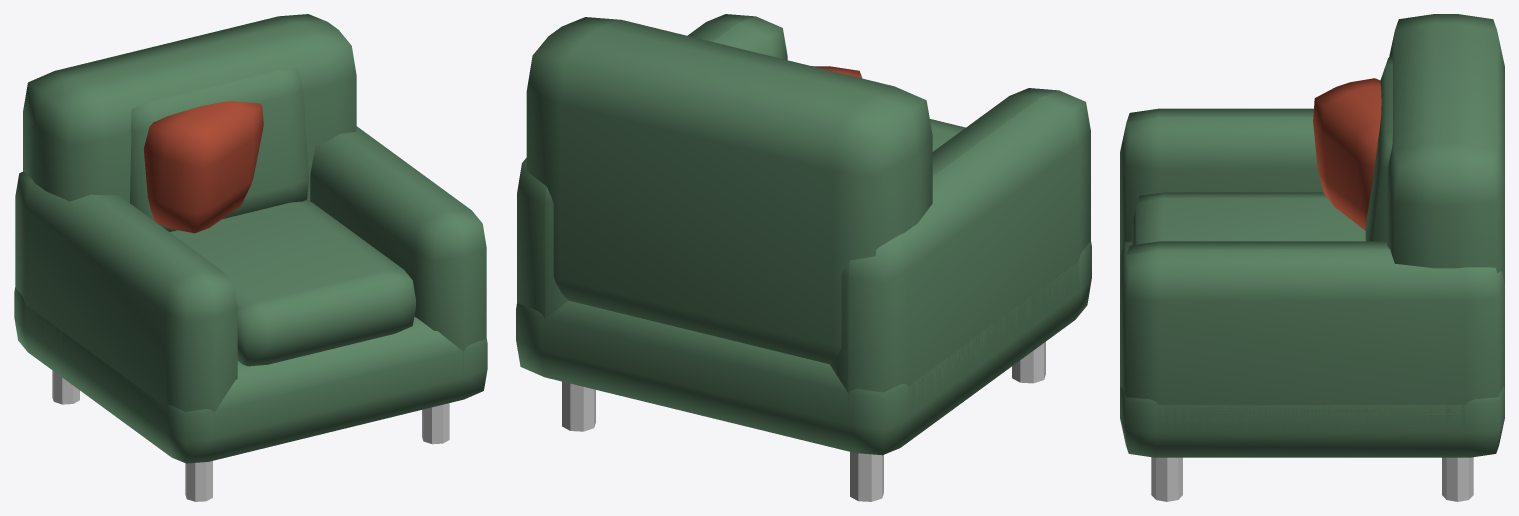
File: armchair-green.glb
3 views of the same model, side by side, from view 1: azimuth 30°, elevation 25°; view 2: azimuth 150°, elevation 25°; view 3: azimuth 270°, elevation 25° (orthographic). The views are drawn at different scales.
Visible parts, largest first — view 1: armchair-green; view 2: armchair-green; view 3: armchair-green.
Boxes of the visible parts, x1,y1,x2,y2 form: armchair-green: (14, 14, 487, 501); armchair-green: (516, 14, 1091, 501); armchair-green: (1120, 14, 1504, 501).
Size of the model in its own units: 1.15 by 1.13 by 1.13.
